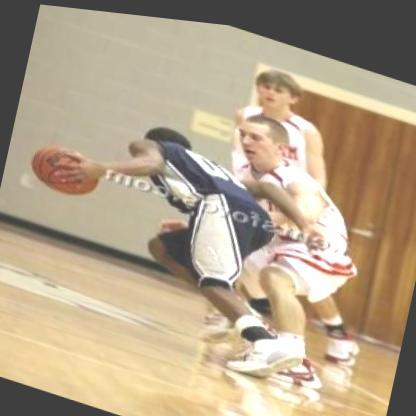basketball: (20, 130, 111, 210)
